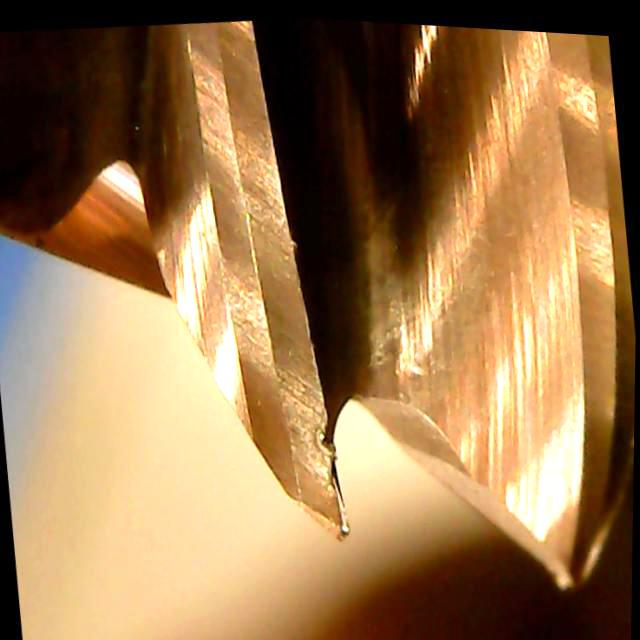Tool-wear-class-1: (198, 237, 369, 549)
